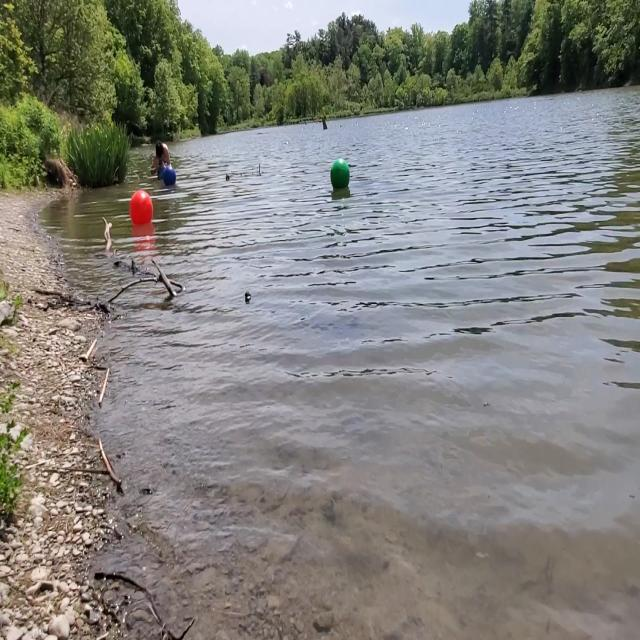buoy: (128, 188, 154, 230), (329, 152, 352, 197), (162, 166, 178, 193)
